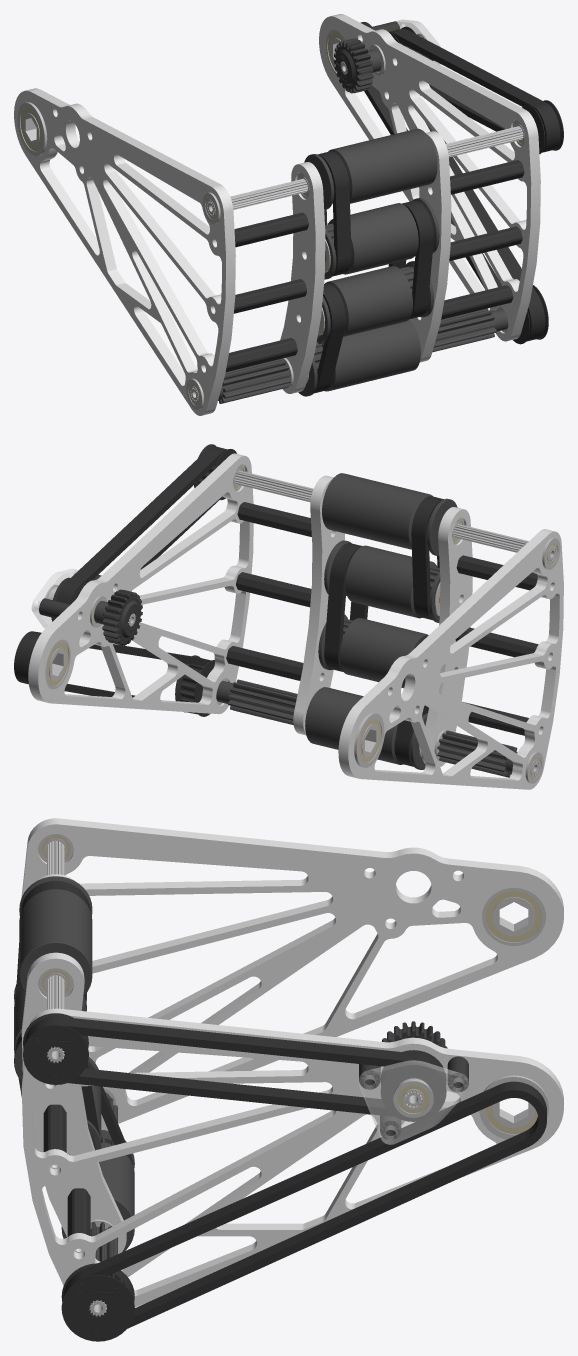
3 renders of one model, top to bottom at view 1: azimuth 30°, elevation 25°; view 2: azimuth 150°, elevation 25°; view 3: azimuth 270°, elevation 25°, orthographic. The views are drawn at different scales.
Parts seen in each view (by area): view 1: 07-10 outer plate 1/4 (×2), 07-11 curved piece (×2), 07-15 18t Custom HTD 5mm Pulley (0.375" Wide, 3/8 Rounded He (×2), 3/8" Rounded Hex (2.063" L, 10.25mm OD) (×6), 07-24 35T 5M 9mm Wide Belt (×3), 07-14 18t Custom HTD 5mm Pulley (0.375" Wide, SplineXS Bore), 07-13 18t Custom HTD 5mm Pulley (0.375" Wide), 12t Steel Spur Gear (20 DP, 8mm SplineXS Bore) (×2), 07-22 80T 5M 9mm Wide Belt, 07-23 100T 5M 9mm Wide Belt, 15T Spline Shaft (8.785" L, 8mm OD), 20DP Gear - 15T Spline - 22T (REV-21-4006) (+2 smaller); view 2: 07-10 outer plate 1/4 (×2), 07-15 18t Custom HTD 5mm Pulley (0.375" Wide, 3/8 Rounded He (×2), 07-11 curved piece (×2), 3/8" Rounded Hex (2.063" L, 10.25mm OD) (×6), 07-14 18t Custom HTD 5mm Pulley (0.375" Wide, SplineXS Bore), 07-24 35T 5M 9mm Wide Belt (×3), 12t Steel Spur Gear (20 DP, 8mm SplineXS Bore) (×2), 07-22 80T 5M 9mm Wide Belt, 07-13 18t Custom HTD 5mm Pulley (0.375" Wide), 15T Spline Shaft (8.785" L, 8mm OD), 1/2" Hex Bore Bearing (1.125" OD, 0.313" WD, Shielded, Flang (×2), 07-23 100T 5M 9mm Wide Belt (+3 smaller); view 3: 07-10 outer plate 1/4 (×2), 07-23 100T 5M 9mm Wide Belt, 07-22 80T 5M 9mm Wide Belt, 07-11 curved piece, 07-14 18t Custom HTD 5mm Pulley (0.375" Wide, SplineXS Bore), 16t Custom HTD 5mm Pulley (0.375" Wide, SplineXS Bore) (×2), 07-16 Bearing Retainer, 1/2" Hex Bore Bearing (1.125" OD, 0.313" WD, Shielded, Flang (×2), 18t Custom HTD 5mm Pulley (0.375" Wide, SplineXS Bore), 3/8" Rounded Hex (2.063" L, 10.25mm OD) (×2), 07-13 18t Custom HTD 5mm Pulley (0.375" Wide), 07-15 18t Custom HTD 5mm Pulley (0.375" Wide, 3/8 Rounded He (×2) (+5 smaller).
Boxes of the visible parts, <box> form: 07-10 outer plate 1/4 (×2): <box>14,14,540,415</box>; 07-11 curved piece (×2): <box>280,131,451,393</box>; 07-15 18t Custom HTD 5mm Pulley (0.375" Wide, 3/8 Rounded He (×2): <box>316,198,439,342</box>; 3/8" Rounded Hex (2.063" L, 10.25mm OD) (×6): <box>225,160,524,371</box>; 07-24 35T 5M 9mm Wide Belt (×3): <box>314,151,433,393</box>; 07-14 18t Custom HTD 5mm Pulley (0.375" Wide, SplineXS Bore): <box>304,128,437,209</box>; 07-13 18t Custom HTD 5mm Pulley (0.375" Wide): <box>298,319,420,396</box>; 12t Steel Spur Gear (20 DP, 8mm SplineXS Bore) (×2): <box>218,308,508,403</box>; 07-22 80T 5M 9mm Wide Belt: <box>390,28,560,152</box>; 07-23 100T 5M 9mm Wide Belt: <box>360,22,545,341</box>; 15T Spline Shaft (8.785" L, 8mm OD): <box>207,126,523,214</box>; 20DP Gear - 15T Spline - 22T (REV-21-4006): <box>333,38,373,93</box>; 07-10 outer plate 1/4 (×2): <box>28,453,563,789</box>; 07-15 18t Custom HTD 5mm Pulley (0.375" Wide, 3/8 Rounded He (×2): <box>318,540,440,688</box>; 07-11 curved piece (×2): <box>293,475,472,766</box>; 3/8" Rounded Hex (2.063" L, 10.25mm OD) (×6): <box>226,502,538,735</box>; 07-14 18t Custom HTD 5mm Pulley (0.375" Wide, SplineXS Bore): <box>322,473,457,555</box>; 07-24 35T 5M 9mm Wide Belt (×3): <box>324,496,443,766</box>; 12t Steel Spur Gear (20 DP, 8mm SplineXS Bore) (×2): <box>216,679,517,777</box>; 07-22 80T 5M 9mm Wide Belt: <box>55,446,227,618</box>; 07-13 18t Custom HTD 5mm Pulley (0.375" Wide): <box>305,687,427,769</box>; 15T Spline Shaft (8.785" L, 8mm OD): <box>234,470,555,560</box>; 1/2" Hex Bore Bearing (1.125" OD, 0.313" WD, Shielded, Flang (×2): <box>45,639,384,767</box>; 07-23 100T 5M 9mm Wide Belt: <box>14,631,210,714</box>; 07-10 outer plate 1/4 (×2): <box>21,818,563,1307</box>; 07-23 100T 5M 9mm Wide Belt: <box>63,1081,546,1328</box>; 07-22 80T 5M 9mm Wide Belt: <box>24,1016,444,1116</box>; 07-11 curved piece: <box>21,952,126,1253</box>; 07-14 18t Custom HTD 5mm Pulley (0.375" Wide, SplineXS Bore): <box>19,876,92,996</box>; 16t Custom HTD 5mm Pulley (0.375" Wide, SplineXS Bore) (×2): <box>23,1013,446,1121</box>; 07-16 Bearing Retainer: <box>359,1060,468,1144</box>; 1/2" Hex Bore Bearing (1.125" OD, 0.313" WD, Shielded, Flang (×2): <box>479,888,548,1139</box>; 18t Custom HTD 5mm Pulley (0.375" Wide, SplineXS Bore): <box>61,1263,134,1341</box>; 3/8" Rounded Hex (2.063" L, 10.25mm OD) (×2): <box>43,1104,90,1253</box>; 07-13 18t Custom HTD 5mm Pulley (0.375" Wide): <box>61,1130,134,1252</box>; 07-15 18t Custom HTD 5mm Pulley (0.375" Wide, 3/8 Rounded He (×2): <box>14,984,101,1150</box>.
Size of the model in its own units: 0.2313 by 0.1568 by 0.2445.
